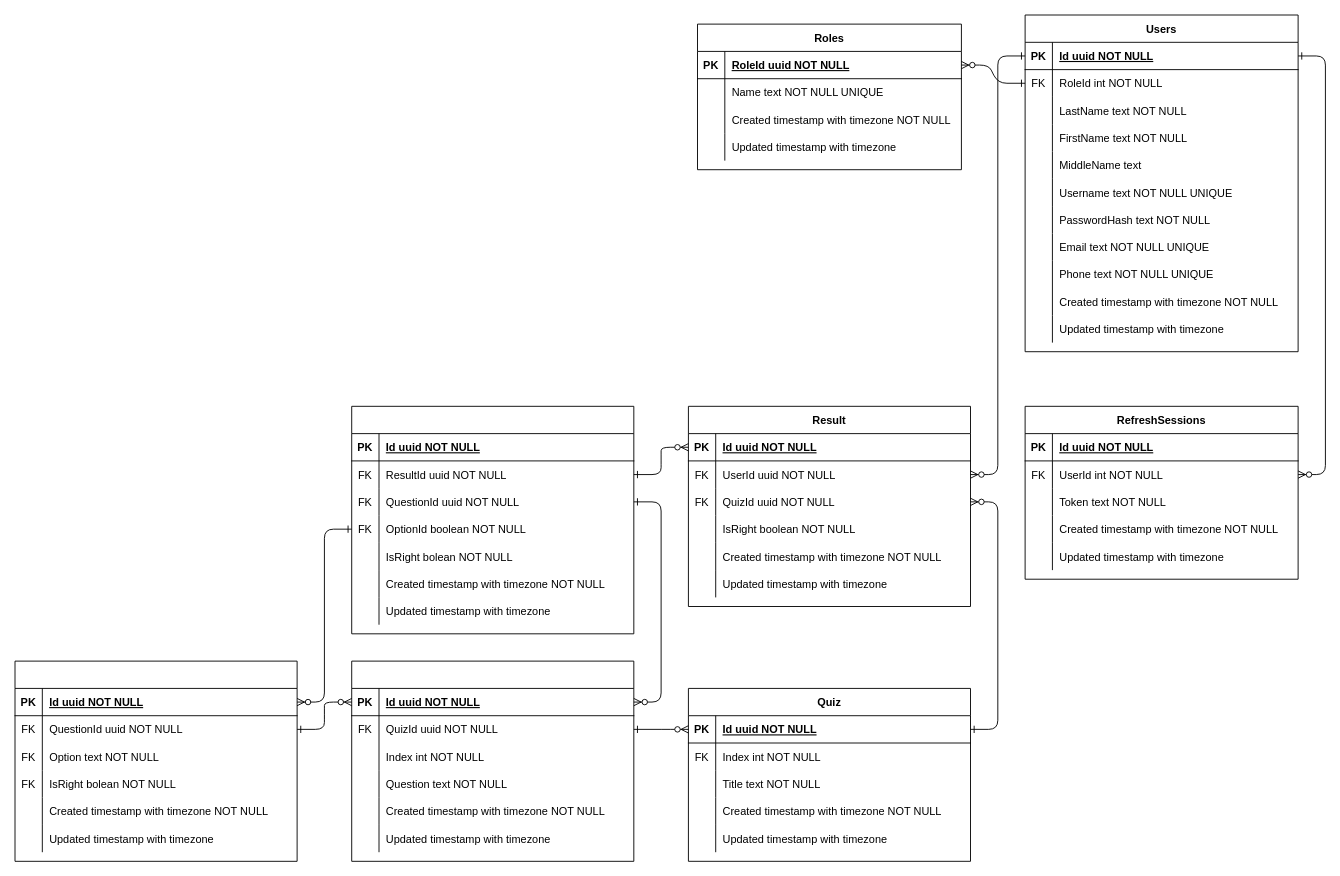
Some shapes in this 1340 by 876 pixel diagram are drawn without their labels. Here are the shapes that lost their labels. From the top down, the box of each, then its label:
(351, 405, 634, 634): ResultDetails
(14, 660, 297, 861): Options
(351, 660, 634, 861): Questions
